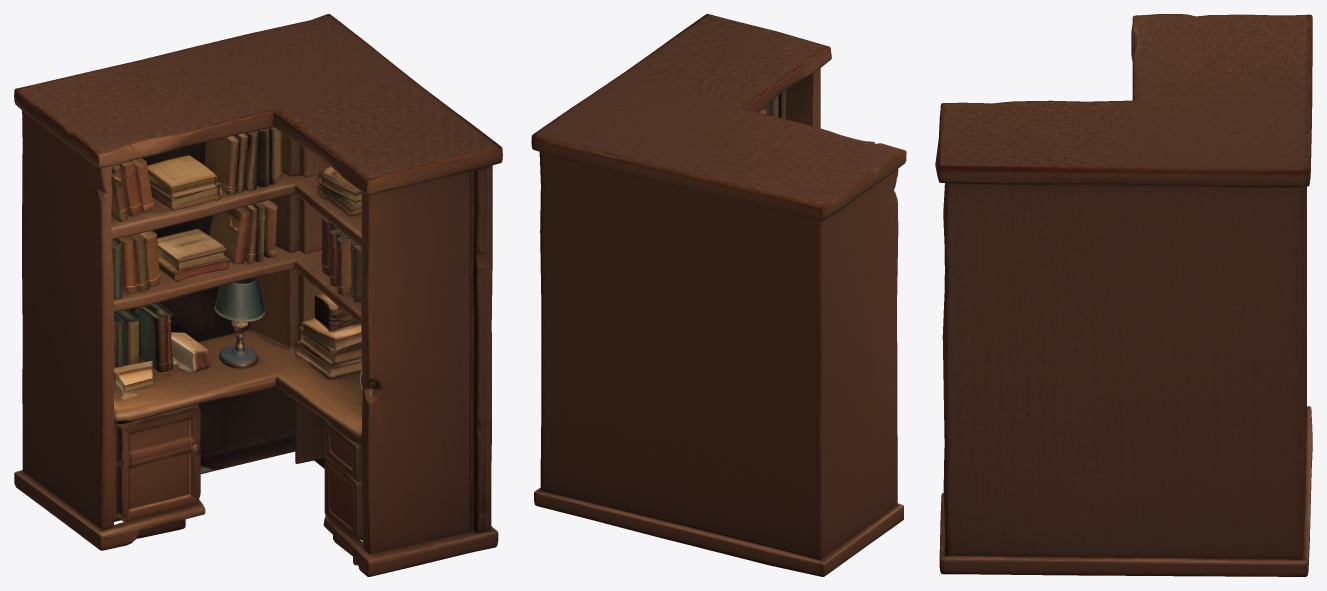
Rendered from study-alcove.glb.
3 views of the same model, side by side, from view 1: azimuth 30°, elevation 25°; view 2: azimuth 150°, elevation 25°; view 3: azimuth 270°, elevation 25° (orthographic). The views are drawn at different scales.
Visible parts, largest first — view 1: tripo_0be1aae5_354a_42c3_8a7c_d7384c16493f; view 2: tripo_0be1aae5_354a_42c3_8a7c_d7384c16493f; view 3: tripo_0be1aae5_354a_42c3_8a7c_d7384c16493f.
Boxes of the visible parts, x1=… form: tripo_0be1aae5_354a_42c3_8a7c_d7384c16493f: x1=14, y1=14, x2=502, y2=576; tripo_0be1aae5_354a_42c3_8a7c_d7384c16493f: x1=531, y1=14, x2=906, y2=576; tripo_0be1aae5_354a_42c3_8a7c_d7384c16493f: x1=935, y1=14, x2=1312, y2=576.
Size of the model in its own units: 0.8306 by 0.9995 by 0.8345.
Materials: 1 (1 with a texture image).
